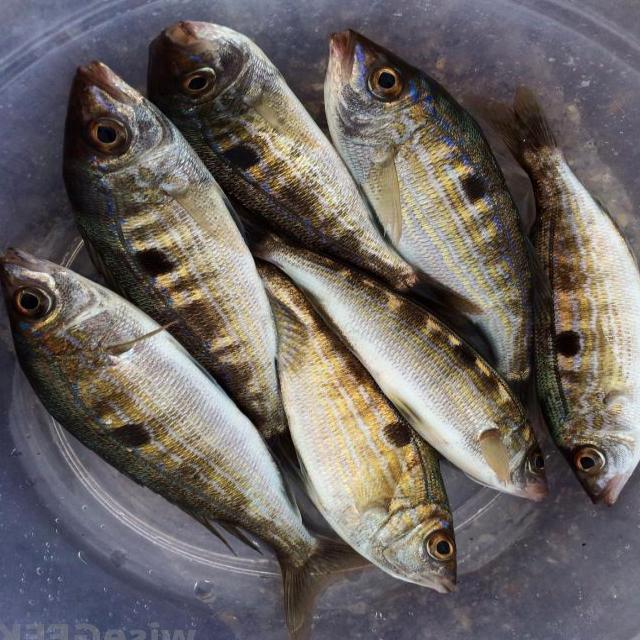fish: (0, 249, 366, 639), (64, 61, 286, 437), (258, 234, 543, 497), (324, 28, 531, 389), (149, 21, 421, 295), (260, 259, 454, 590), (491, 87, 639, 501)
